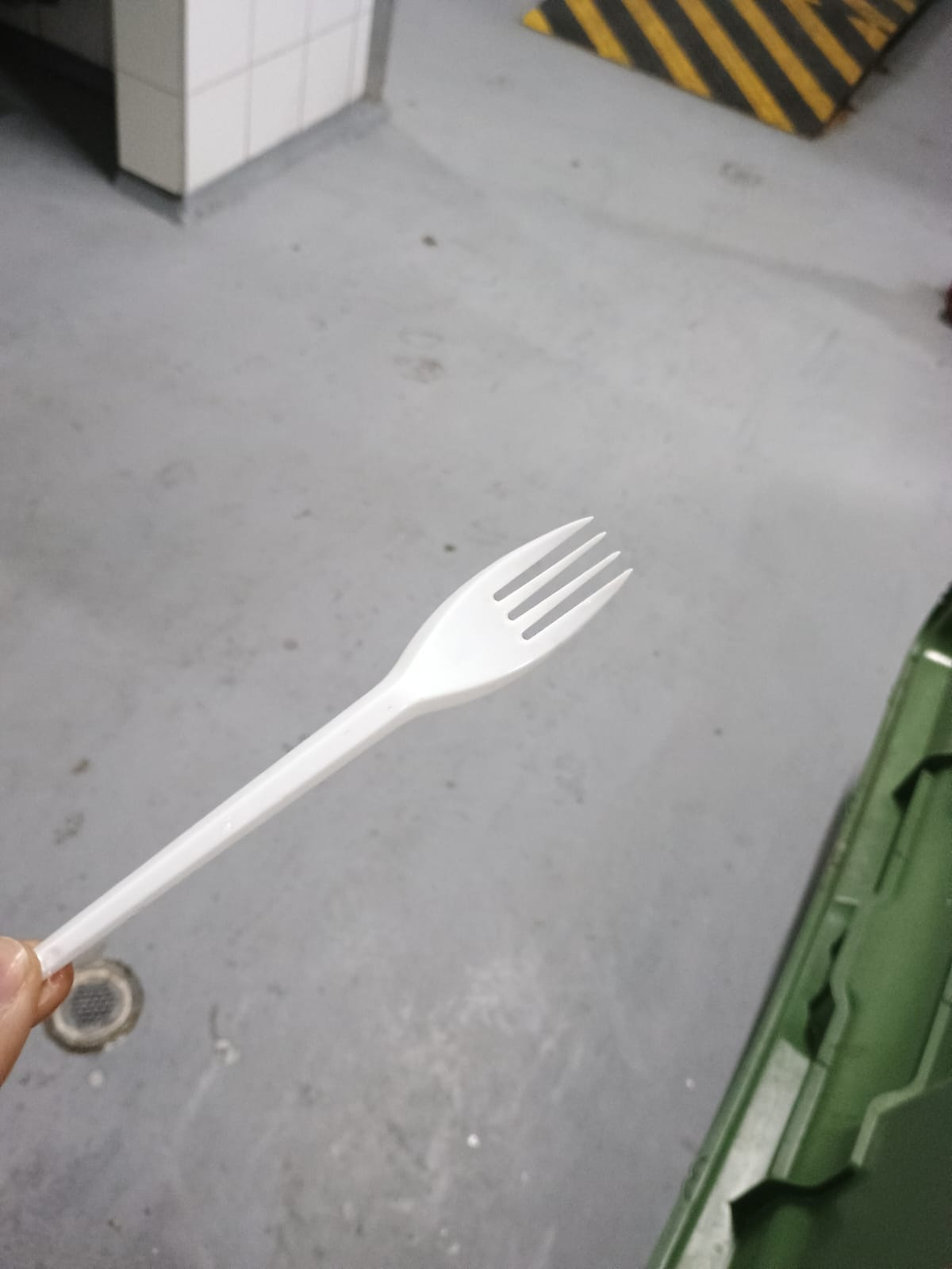Ordinario: (11, 515, 637, 972)
